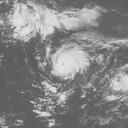cyclone: (51, 43, 90, 80)
